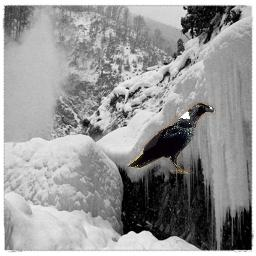Crow: (126, 102, 216, 174)
